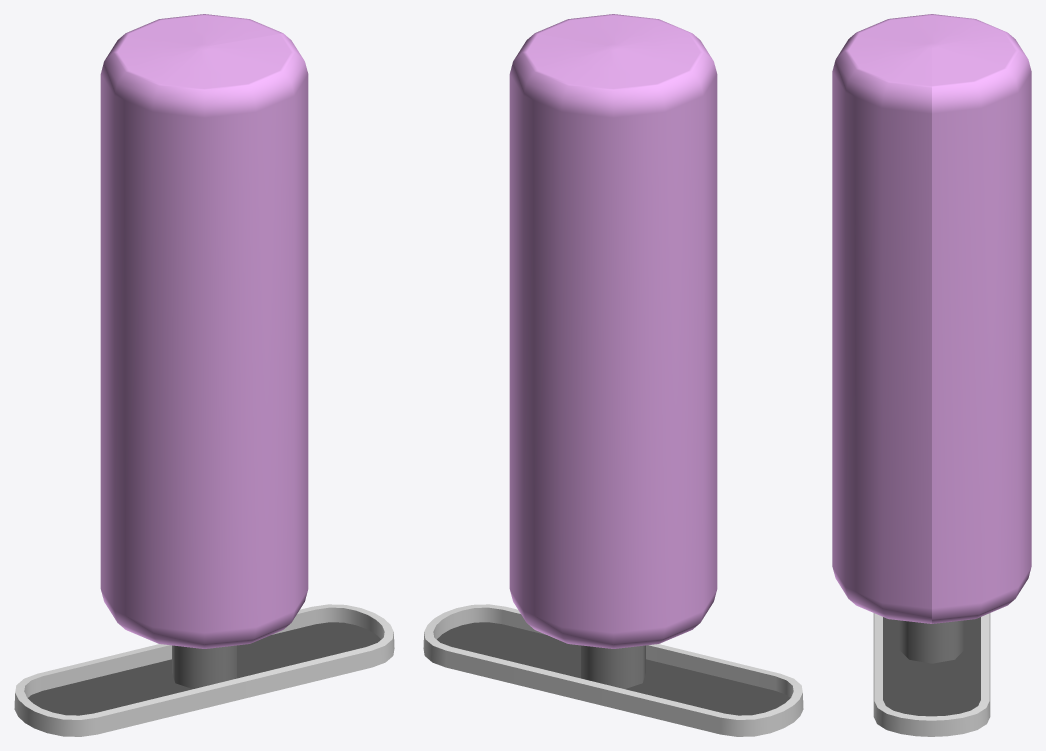
The model's file is Obstacle_45.fbx.
The picture shows the model from 3 angles, left to right: view 1: azimuth 30°, elevation 25°; view 2: azimuth 150°, elevation 25°; view 3: azimuth 270°, elevation 25°; orthographic projection. The views are drawn at different scales.
Visible parts, largest first — view 1: Quay, De; view 2: Quay, De; view 3: Quay, De.
Part boxes in pixels (box(x1,y1,x2,y2)): Quay: box(100, 14, 308, 688); De: box(14, 604, 394, 736); Quay: box(509, 14, 717, 688); De: box(423, 604, 803, 736); Quay: box(832, 14, 1031, 663); De: box(873, 613, 990, 736).
Bounding box in the file's own units: 1.79 × 3 × 0.8945.
